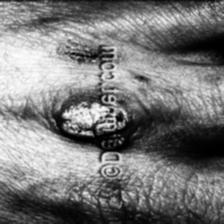Toxin: (56, 98, 98, 142), (68, 38, 92, 64), (128, 70, 150, 87)
